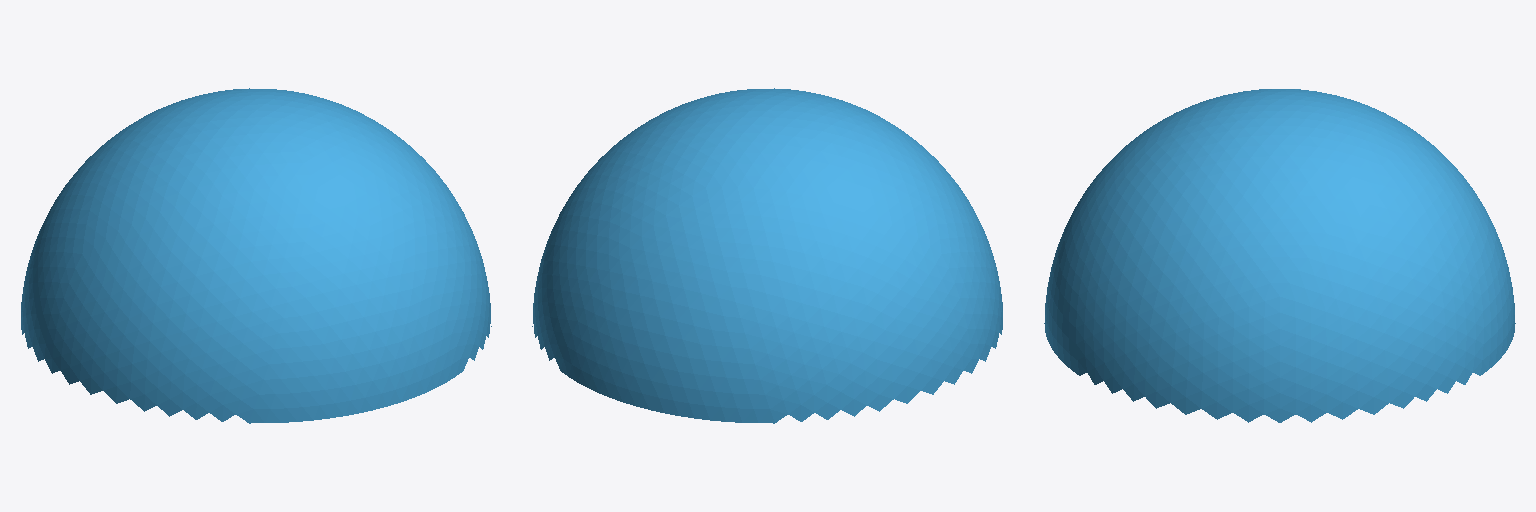
robot.urdf — sphere:
<?xml version="1.0"?>


<robot xmlns:xacro="http://ros.org/wiki/xacro" name="sphere">
  <link name="g_base"/>

  <link name="dome">
    <visual>
      <geometry>
        <mesh filename="package://modular_code/meshes/objects/object.stl" scale="1 1 1"/>
      </geometry>

    </visual>
  </link>
  
  <joint name="dome_fixed_joint" type="fixed">
    <axis xyz="0 0 0"/>
    <parent link="g_base"/>
    <child link="dome"/>
    <origin xyz="0.25 0 0.1" rpy="0 0 0"/>
  </joint>


</robot>

--- What the picture shows (computed from the rendered views, not written in the file) ---
The picture shows the robot from 3 angles, left to right: view 1: azimuth 30°, elevation 25°; view 2: azimuth 150°, elevation 25°; view 3: azimuth 270°, elevation 25°; orthographic projection.
Robot: sphere — 2 links, 1 joints (1 fixed); root link g_base; default pose: all joints at 0.
Visible links, largest first — view 1: dome; view 2: dome; view 3: dome.
Link boxes in pixels (x1,y1,x2,y2): dome: [21, 88, 491, 423]; dome: [532, 88, 1002, 423]; dome: [1044, 89, 1515, 422].
Bounding box of the posed robot: 0.224 × 0.224 × 0.112 m (x, y, z).
1 mesh visuals loaded from 1 distinct referenced files (1 binary STL).